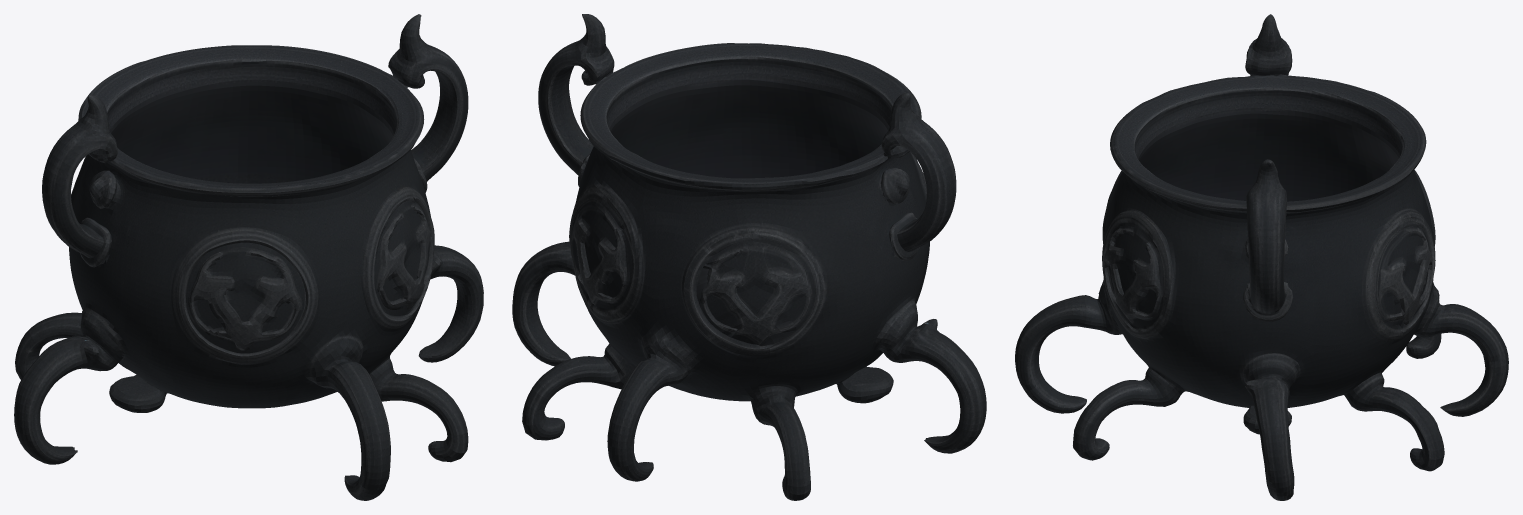
The model's file is p2_07_claw_cauldron.fbx.
3 renders of one model, left to right at view 1: azimuth 30°, elevation 25°; view 2: azimuth 150°, elevation 25°; view 3: azimuth 270°, elevation 25°, orthographic. The views are drawn at different scales.
Parts seen in each view (by area): view 1: temp; view 2: temp; view 3: temp.
Part boxes in pixels (x1,y1,x2,y2): temp: (14,14,483,500); temp: (512,14,986,500); temp: (1015,14,1508,500).
Bounding box in the file's own units: 190 × 138 × 189.
1 material, 1 textured.
